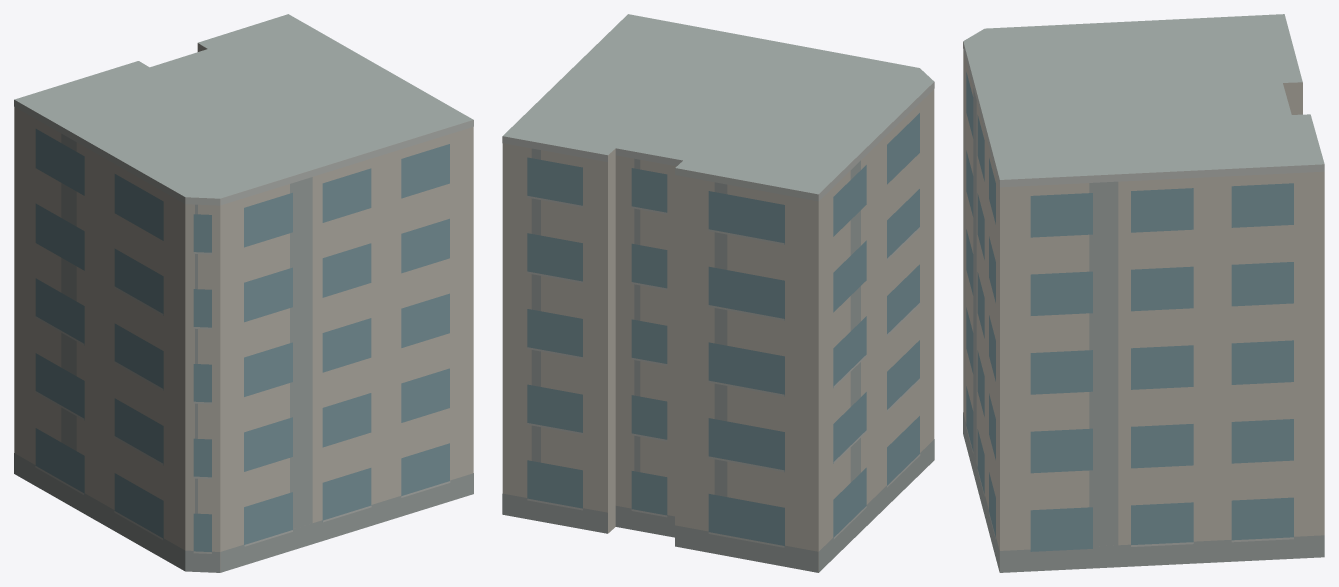
Rendered from survey-upis-32561740.glb.
3 renders of one model, left to right at view 1: azimuth 30°, elevation 25°; view 2: azimuth 150°, elevation 25°; view 3: azimuth 270°, elevation 25°, orthographic. The views are drawn at different scales.
Visible parts, largest first — view 1: survey-upis-32561740.tmp; view 2: survey-upis-32561740.tmp; view 3: survey-upis-32561740.tmp.
Boxes of the visible parts, bbox=[...] form: survey-upis-32561740.tmp: bbox=[14, 14, 473, 572]; survey-upis-32561740.tmp: bbox=[502, 14, 934, 572]; survey-upis-32561740.tmp: bbox=[963, 14, 1324, 572].
Size of the model in its own units: 11.88 by 13.1 by 10.93.
